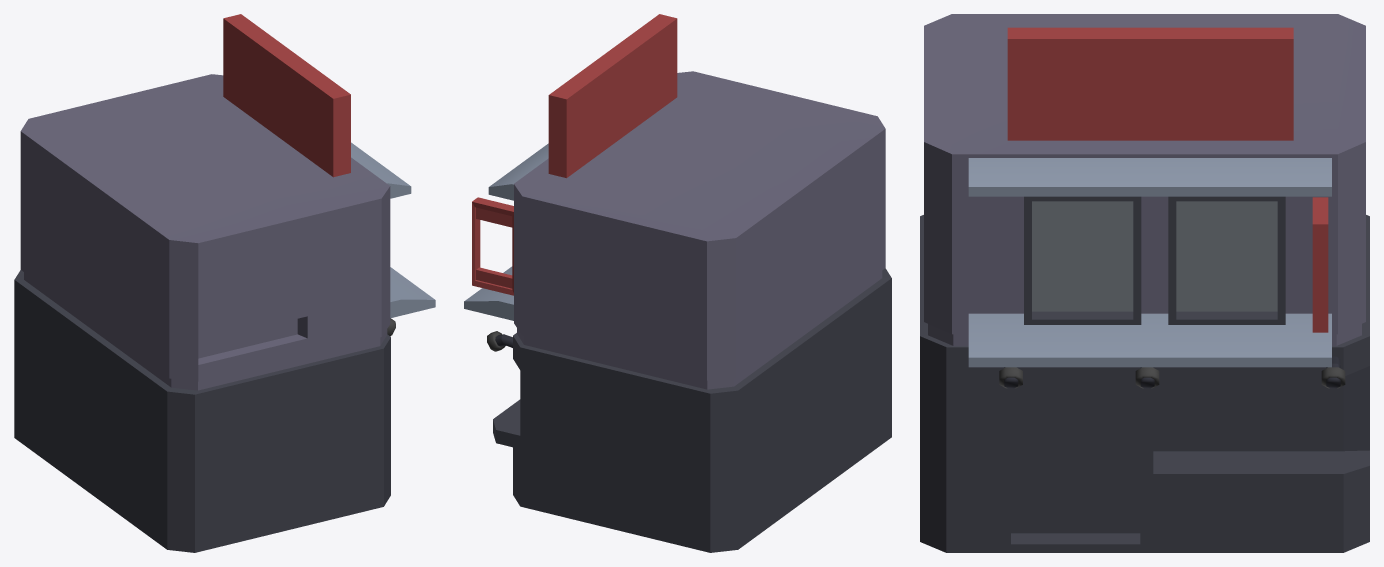
File: 3_Main.fbx
3 renders of one model, left to right at view 1: azimuth 30°, elevation 25°; view 2: azimuth 150°, elevation 25°; view 3: azimuth 270°, elevation 25°, orthographic. The views are drawn at different scales.
Parts seen in each view (by area): view 1: polySurface92, pasted__pasted___pCube31, pasted__pasted___pCube27, pasted__pasted___pCube28; view 2: polySurface92, pasted__pasted___pCube31, pasted__pasted___pasted__pCube31, pasted__pasted___pCube27, pasted__pasted___pCube28; view 3: polySurface92, pasted__pasted___pCube31, pasted__pasted___pCube27, pasted__pasted___pCube63, pasted__pasted___pCube29, pasted__pasted___pCube28, pasted__pasted___pasted__pCube31.
Part boxes in pixels (x1,y1,x2,y2): polySurface92: (14, 74, 390, 552); pasted__pasted___pCube31: (223, 14, 350, 177); pasted__pasted___pCube27: (390, 267, 435, 318); pasted__pasted___pCube28: (351, 142, 411, 198); polySurface92: (493, 71, 891, 552); pasted__pasted___pCube31: (548, 14, 677, 178); pasted__pasted___pasted__pCube31: (472, 197, 513, 295); pasted__pasted___pCube27: (464, 266, 513, 320); pasted__pasted___pCube28: (488, 143, 548, 200); polySurface92: (920, 14, 1369, 552); pasted__pasted___pCube31: (1007, 27, 1293, 140); pasted__pasted___pCube27: (968, 313, 1331, 367); pasted__pasted___pCube63: (1168, 196, 1285, 324); pasted__pasted___pCube29: (1024, 196, 1141, 324); pasted__pasted___pCube28: (968, 158, 1331, 196); pasted__pasted___pasted__pCube31: (1312, 197, 1328, 332).
Bounding box in the file's own units: 5.88 × 7.87 × 6.37.
